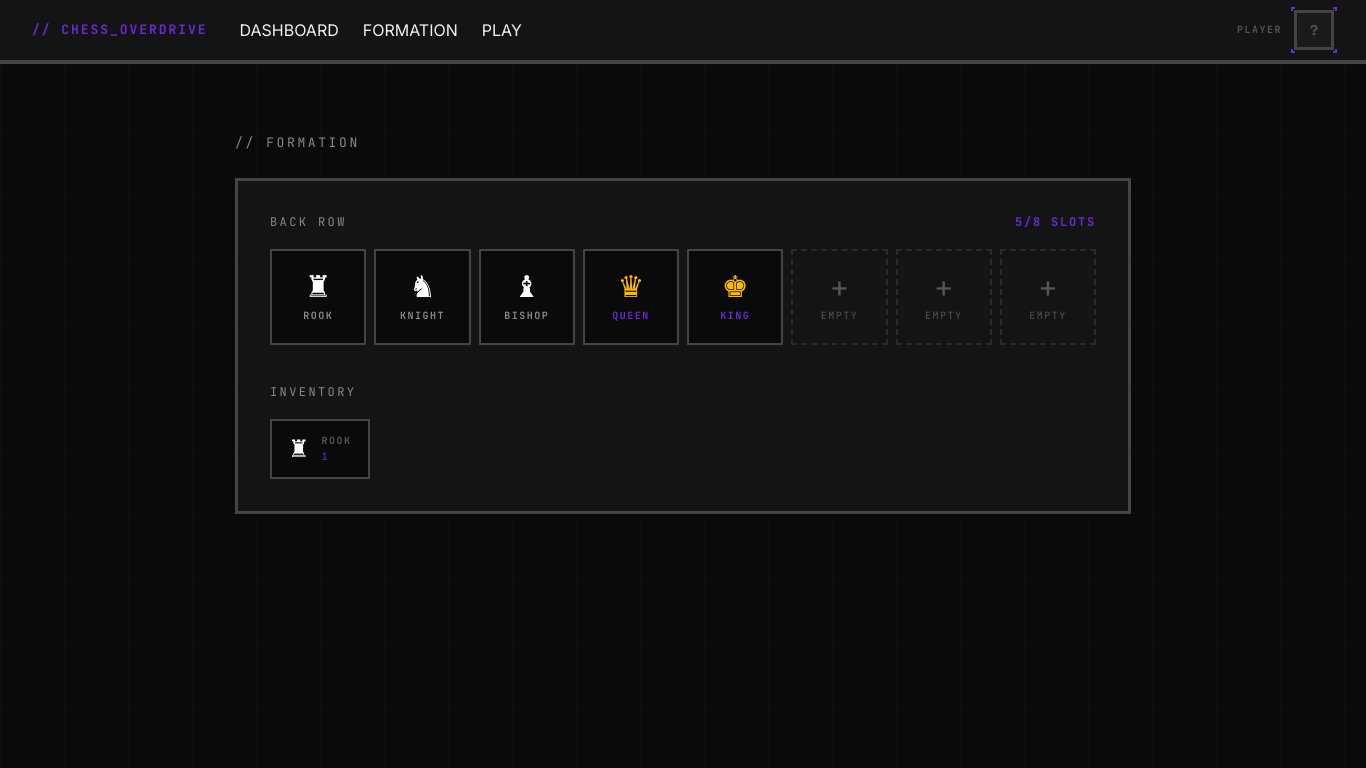
Test case: FormationPage — error handling › displays an error message when placePiece mutation fails
Click the element with test id "inventory-group-rook" at (320, 449), box [270,418,370,479]
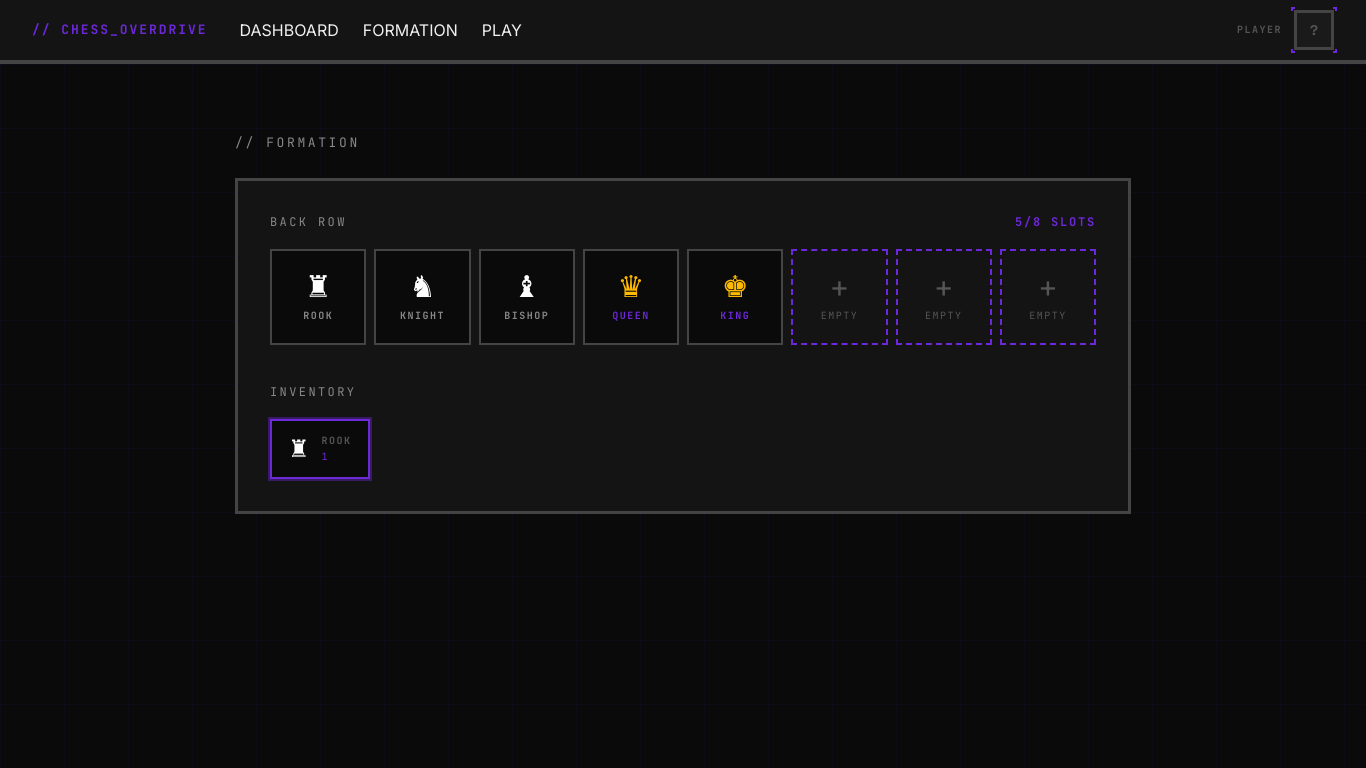
Click the element with test id "formation-slot-5" at (839, 296), box [791,248,888,344]
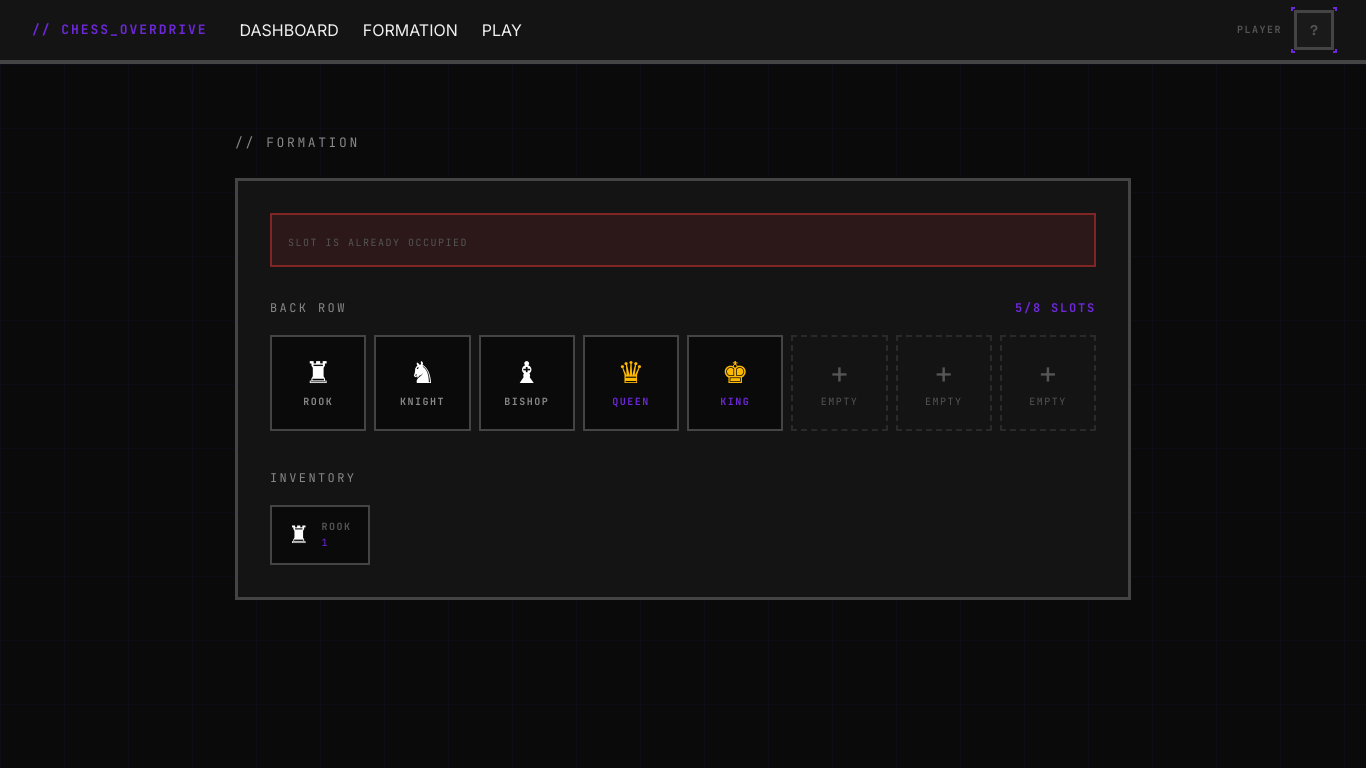
expect the text "Slot is already occupied" is shown: met, box [288,236,468,249]
